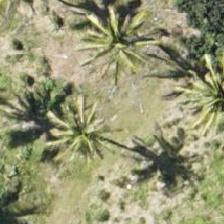coconut_tree: (66, 0, 156, 78), (169, 41, 223, 131)
